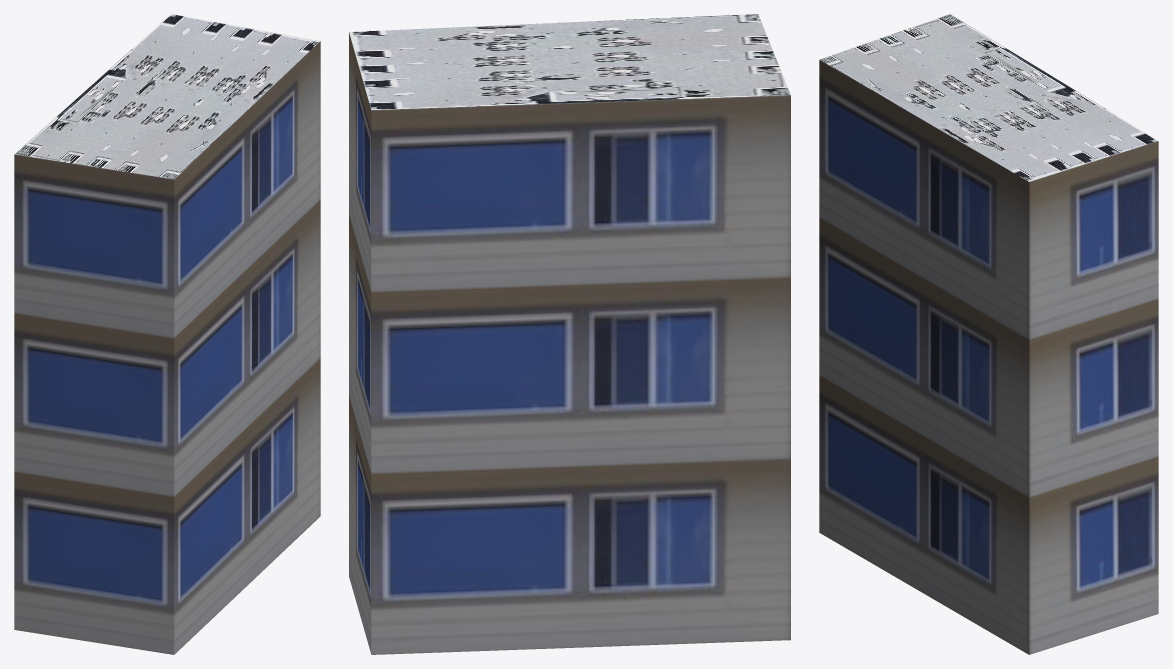
Rendered from ResTex__1454.fbx.
3 renders of one model, left to right at view 1: azimuth 30°, elevation 25°; view 2: azimuth 150°, elevation 25°; view 3: azimuth 270°, elevation 25°, orthographic. The views are drawn at different scales.
Parts seen in each view (by area): view 1: CityEngineMaterial_23_m, CityEngineMaterial_8_m; view 2: CityEngineMaterial_23_m, CityEngineMaterial_8_m; view 3: CityEngineMaterial_23_m, CityEngineMaterial_8_m.
Part boxes in pixels (x1,y1,x2,y2): CityEngineMaterial_23_m: (14, 41, 320, 654); CityEngineMaterial_8_m: (14, 14, 319, 179); CityEngineMaterial_23_m: (349, 32, 790, 654); CityEngineMaterial_8_m: (349, 14, 790, 110); CityEngineMaterial_23_m: (819, 60, 1158, 654); CityEngineMaterial_8_m: (820, 14, 1157, 181).
Size of the model in its own units: 6.85 by 9 by 5.85.
Materials: 2 (2 with a texture image).
